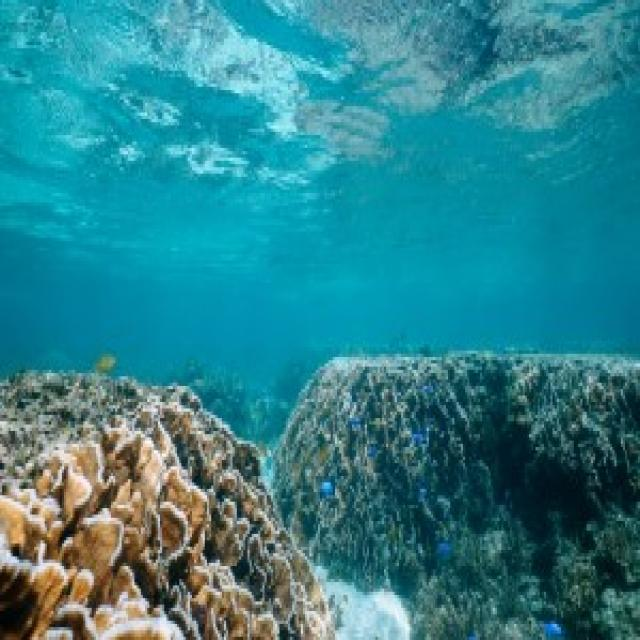Healthy: (278, 358, 639, 635), (1, 409, 278, 638)
